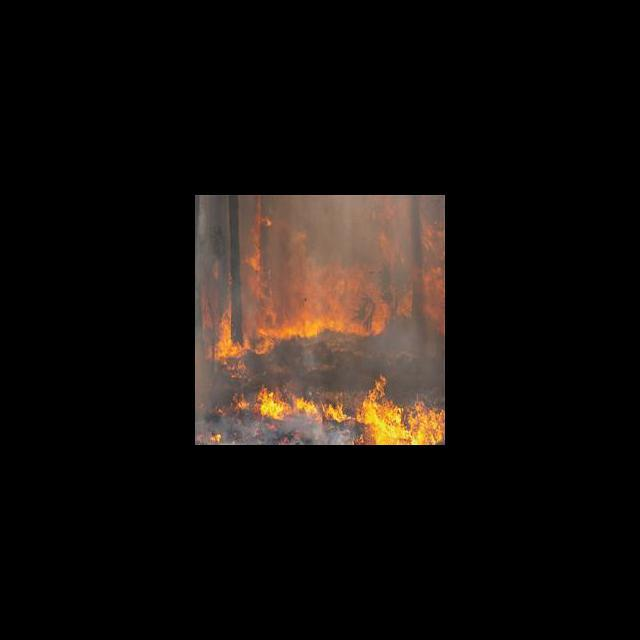Fire: (209, 226, 445, 355), (363, 377, 443, 444), (243, 389, 352, 414)
Smoke: (230, 417, 355, 444)
